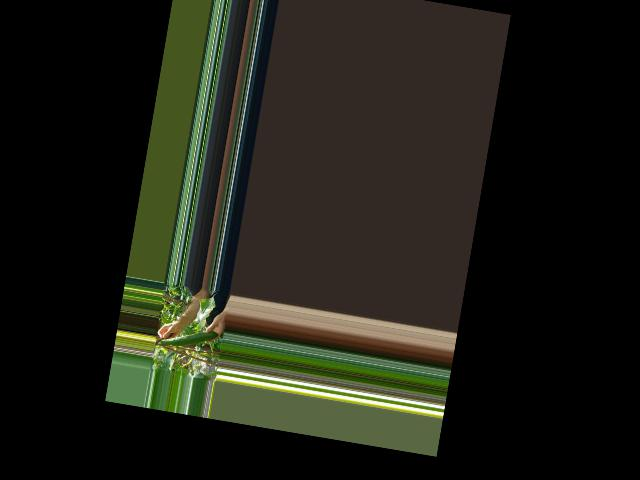cucumber: (161, 323, 218, 353)
